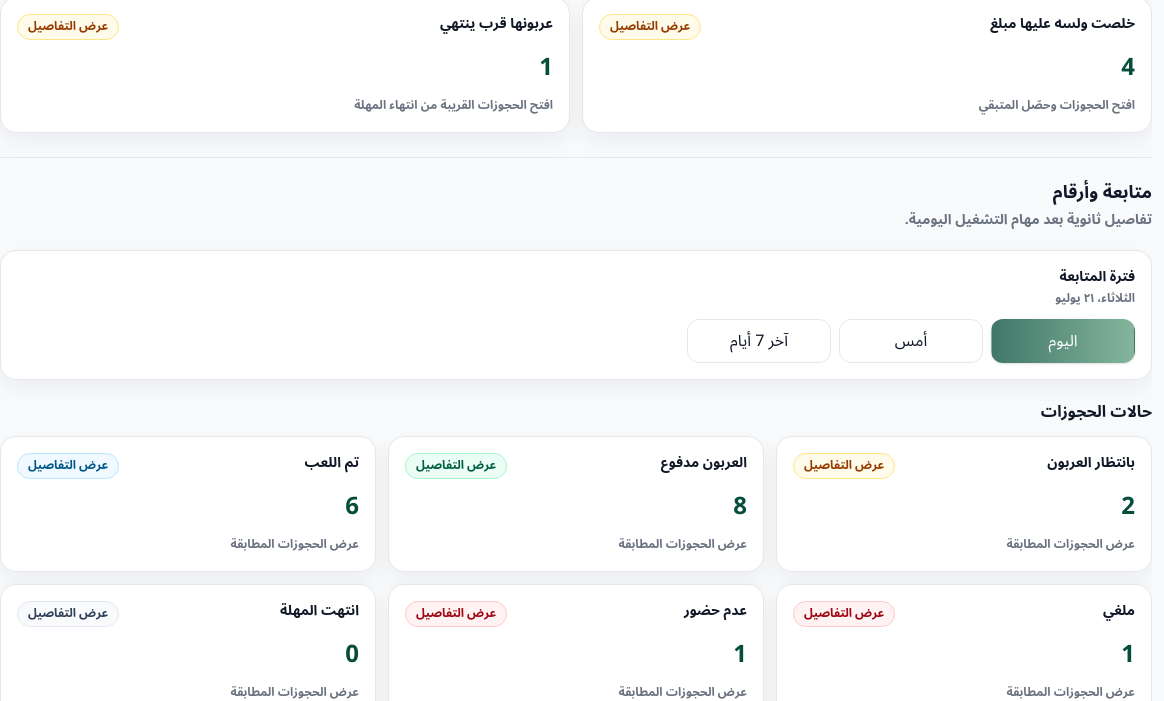
Test: DashboardPage › applies deep-linked court and preserves it through shortcut changes
(page scrolled)
Click the button "أمس" at (911,341), box left=839, top=319, right=983, bottom=363
(page scrolled)
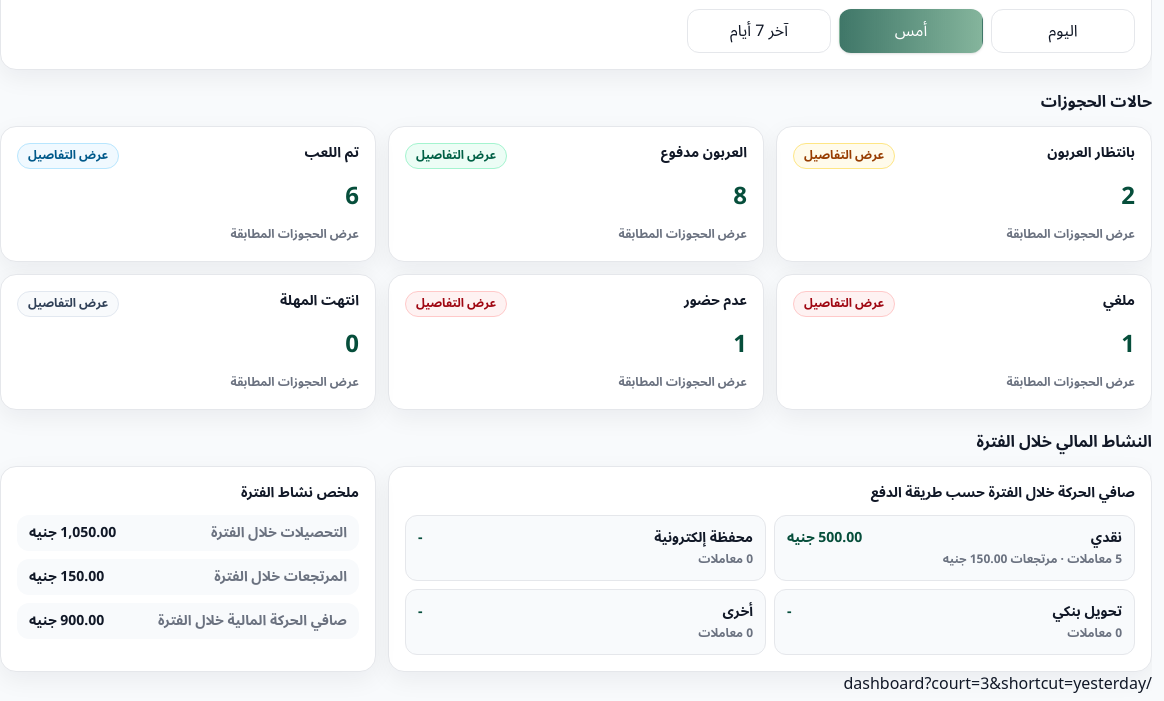
Now the text with test id "location" reads "/dashboard?court=3&shortcut=yesterday", box left=843, top=667, right=1152, bottom=700
